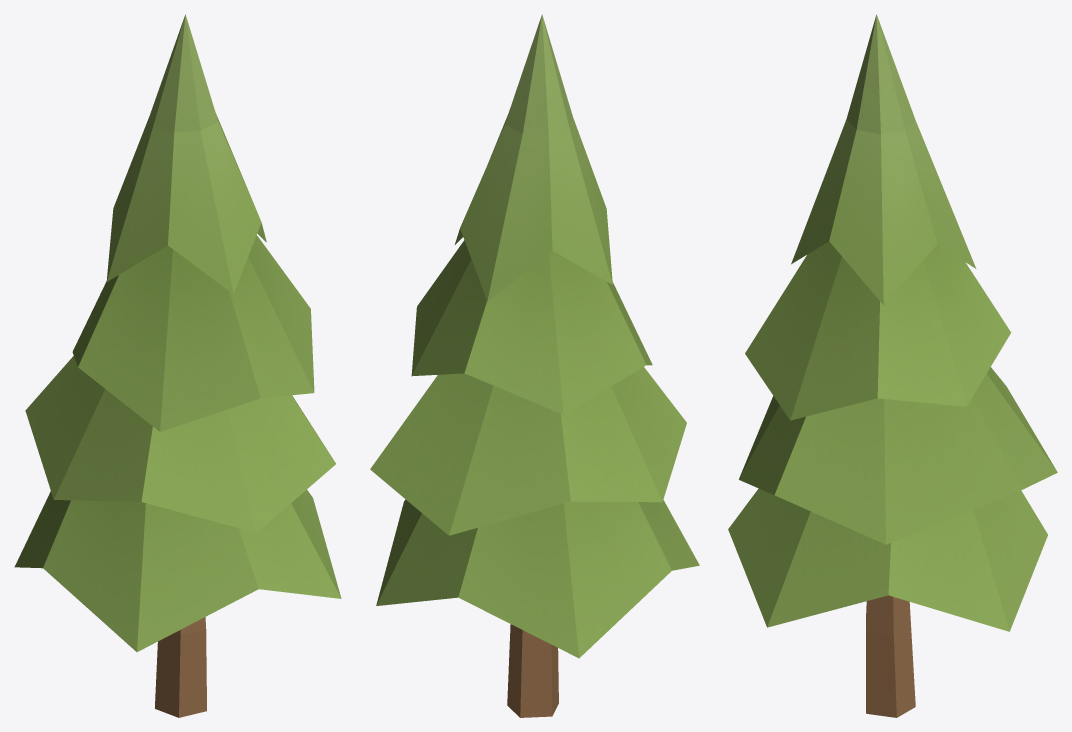
File: Pine_Tree_m_BT_02.fbx
3 renders of one model, left to right at view 1: azimuth 30°, elevation 25°; view 2: azimuth 150°, elevation 25°; view 3: azimuth 270°, elevation 25°, orthographic.
Visible parts, largest first — view 1: Pine_Tree_m_BT_02; view 2: Pine_Tree_m_BT_02; view 3: Pine_Tree_m_BT_02.
Boxes of the visible parts, left/top/right/bottom form: Pine_Tree_m_BT_02: left=14, top=14, right=341, bottom=717; Pine_Tree_m_BT_02: left=370, top=14, right=699, bottom=717; Pine_Tree_m_BT_02: left=728, top=14, right=1057, bottom=717.
Size of the model in its own units: 430 by 1059 by 457.
